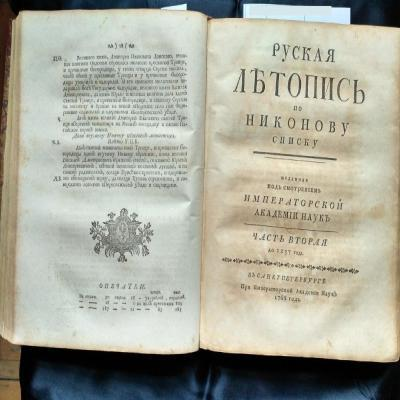rare_books: (0, 9, 400, 364)
